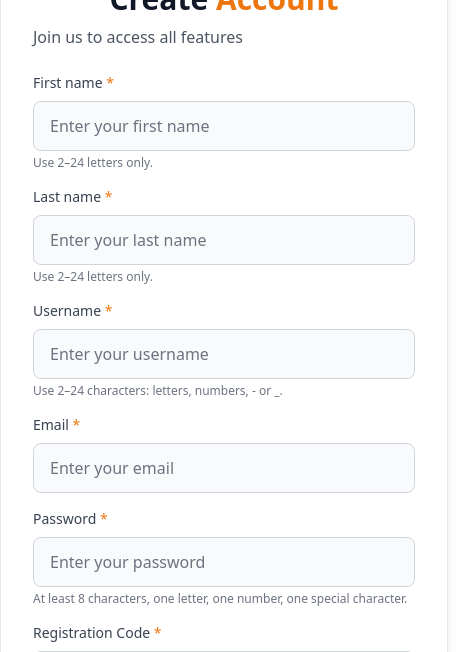
Test: RegisterForm › shows generic error message for server errors
The width and height of the screenshot is (465, 652).
Type "John" into the field labelled "First name *" at (224, 126), box [33,101,415,151]
Type "Doe" into the field labelled "Last name *" at (224, 240), box [33,215,415,265]
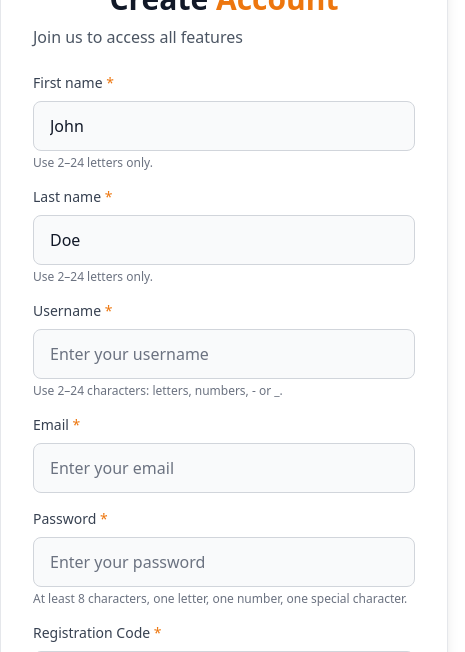
Type "johndoe" into the field labelled "Username *" at (224, 354), box [33,329,415,379]
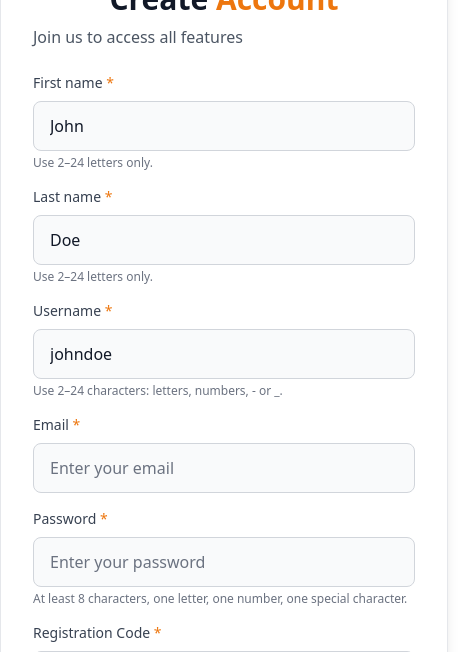
Type "john@example.com" into the field labelled "Email *" at (224, 468), box [33,443,415,493]
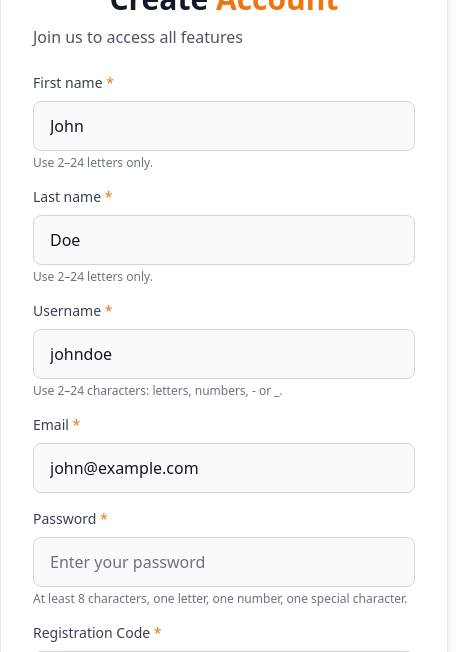
Type "SecurePass123!" into the password field labelled "Password *" at (224, 562), box [33,537,415,587]
(page scrolled)
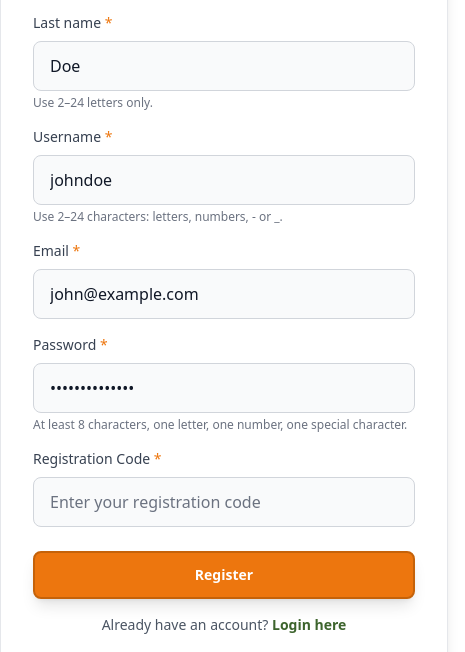
Type "TESTCODE" into the field labelled "Registration Code *" at (224, 502), box [33,477,415,527]
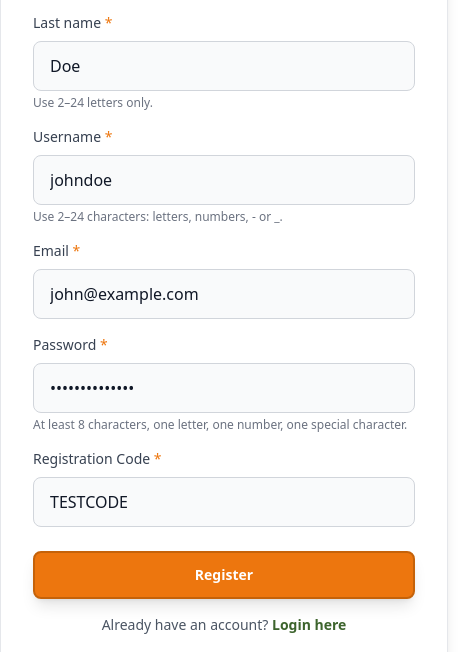
Click the button "Register" at (224, 575), box [33,551,415,599]
(page scrolled)
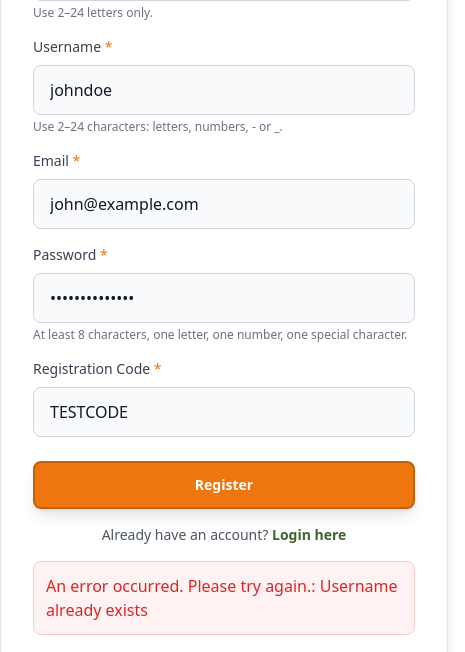
Expected: the text "An error occurred. Please try again.: Username already exists" is shown, [46,574,402,622]
